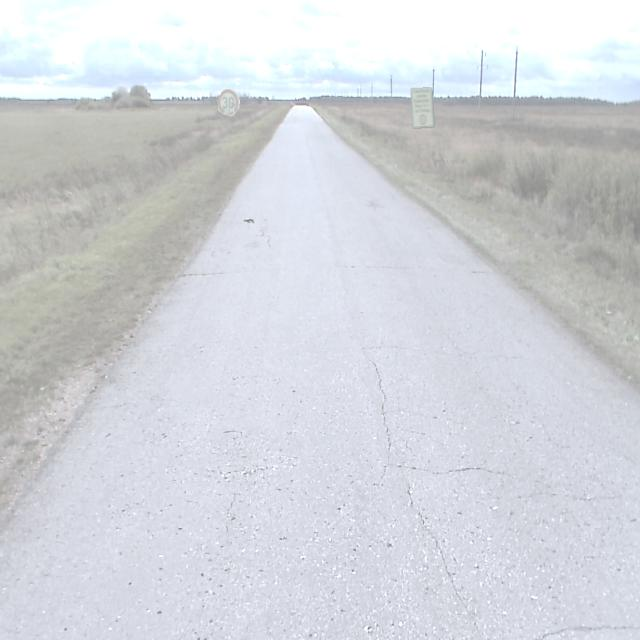road: (0, 107, 639, 639)
